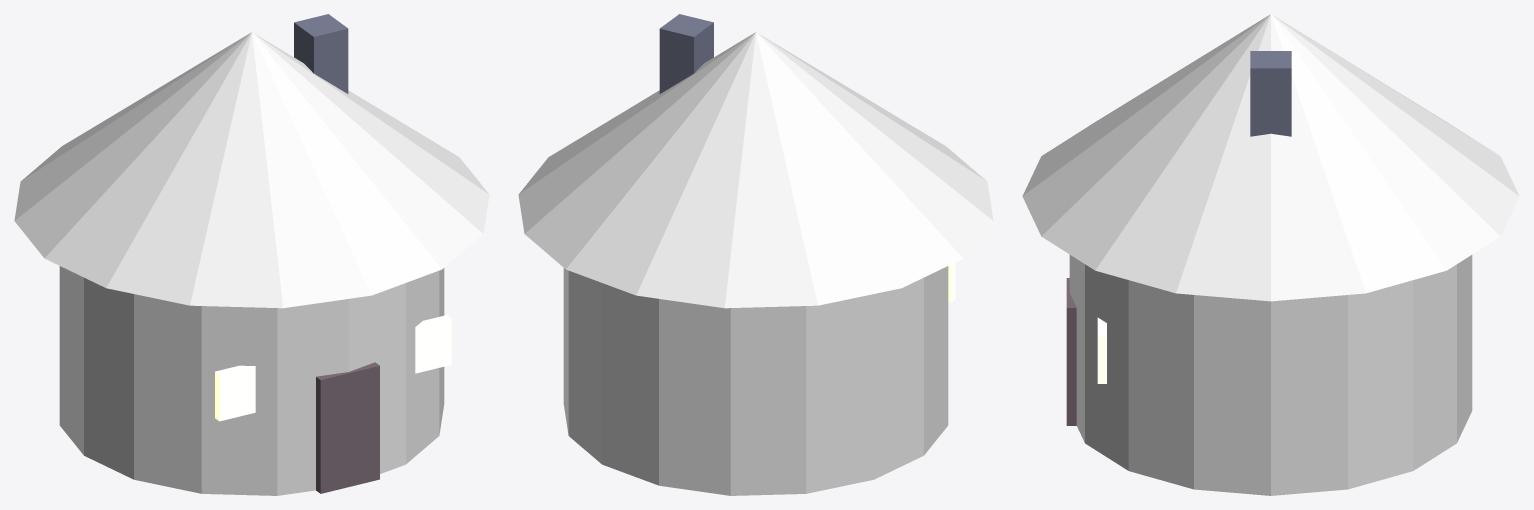
File: home_cottage_round.glb
The picture shows the model from 3 angles, left to right: view 1: azimuth 30°, elevation 25°; view 2: azimuth 150°, elevation 25°; view 3: azimuth 270°, elevation 25°; orthographic projection. The views are drawn at different scales.
Parts seen in each view (by area): view 1: Roof, Body, Door, Chimney, Window0, Window1; view 2: Roof, Body, Chimney; view 3: Roof, Body, Chimney, Door, Window1.
Part boxes in pixels (left/top/right/bottom): Roof: left=14, top=32, right=489, bottom=308; Body: left=59, top=266, right=444, bottom=495; Door: left=316, top=362, right=379, bottom=493; Chimney: left=294, top=14, right=348, bottom=93; Window0: left=215, top=365, right=255, bottom=421; Window1: left=415, top=315, right=451, bottom=373; Roof: left=518, top=32, right=993, bottom=308; Body: left=563, top=266, right=948, bottom=495; Chimney: left=659, top=14, right=713, bottom=93; Roof: left=1022, top=14, right=1519, bottom=301; Body: left=1069, top=255, right=1472, bottom=495; Chimney: left=1250, top=51, right=1291, bottom=136; Door: left=1066, top=278, right=1076, bottom=425; Window1: left=1097, top=317, right=1106, bottom=383.
Size of the model in its own units: 8.4 by 7.4 by 8.4.
